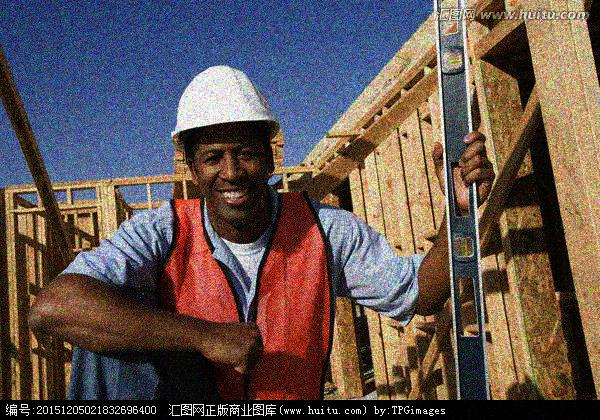helmet: (170, 63, 282, 225)
